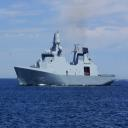Fragata: (15, 30, 117, 89)
